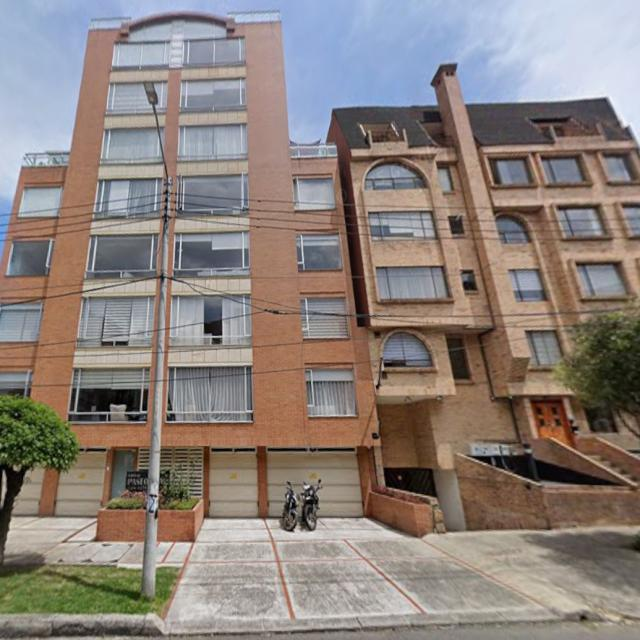fachada: (0, 12, 639, 531), (0, 12, 377, 516), (328, 65, 639, 528)
poste: (142, 164, 171, 599)
